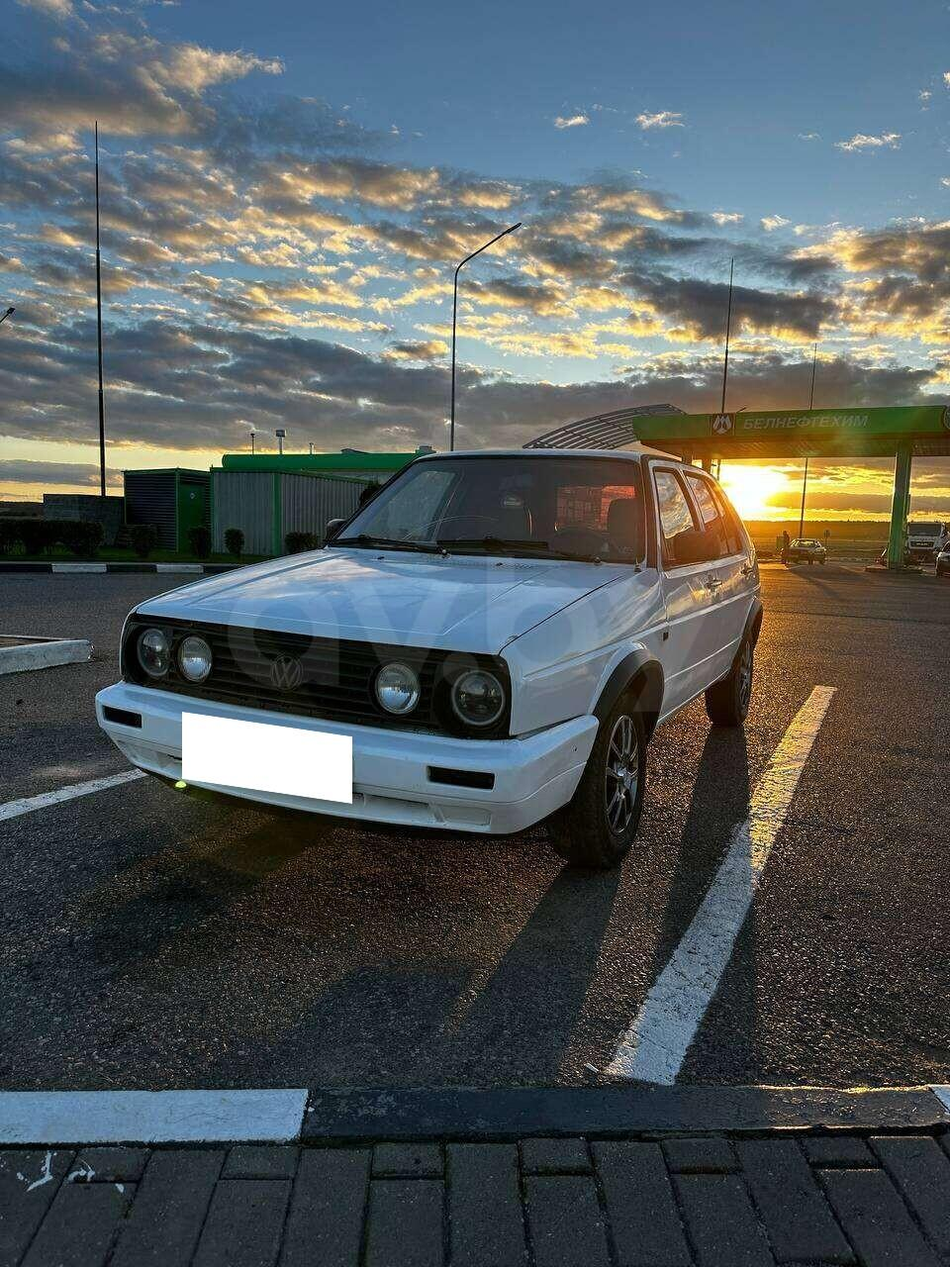Golf_1983-1992: (89, 439, 772, 868)
